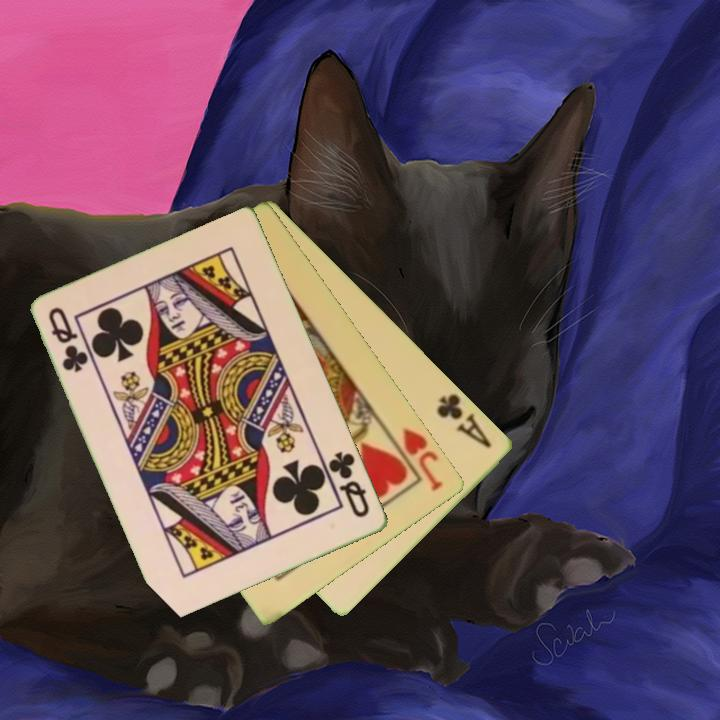Ac: (433, 390, 495, 451)
Jh: (399, 423, 446, 495)
Qc: (325, 447, 373, 521), (45, 303, 92, 376)
